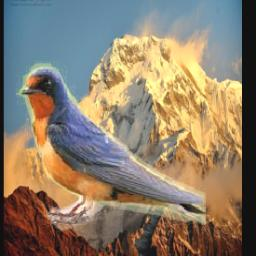Swallow: (16, 62, 206, 234)
